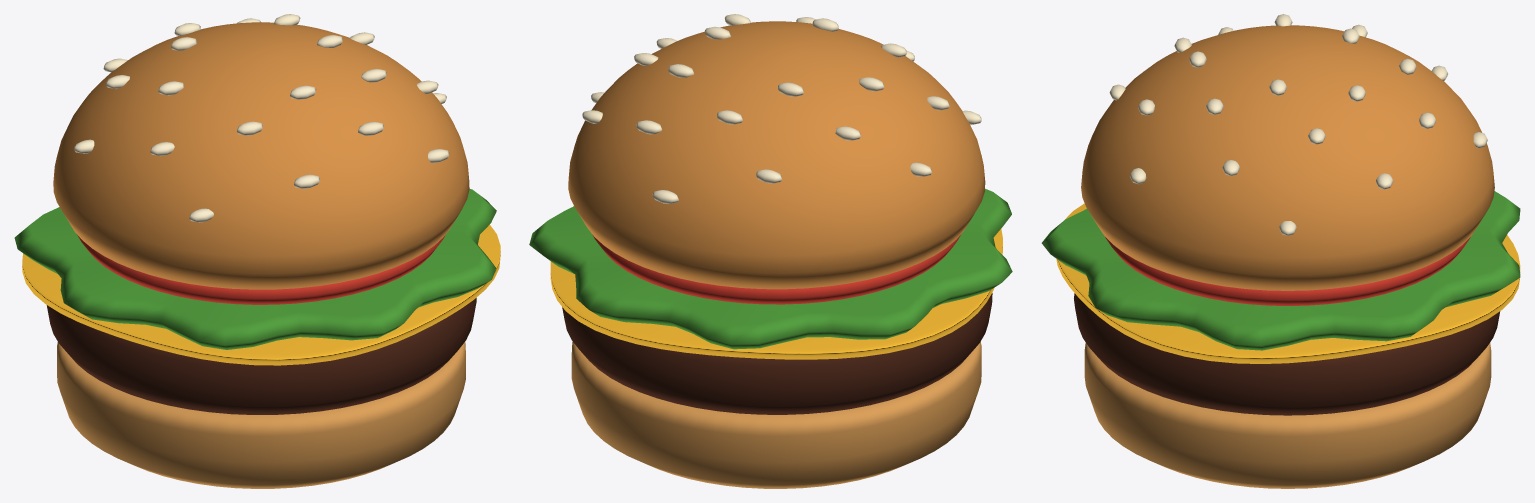
File: hamburguer-teste.glb
The picture shows the model from 3 angles, left to right: view 1: azimuth 30°, elevation 25°; view 2: azimuth 150°, elevation 25°; view 3: azimuth 270°, elevation 25°; orthographic projection.
Parts seen in each view (by area): view 1: hamburguer; view 2: hamburguer; view 3: hamburguer.
Part boxes in pixels (x1,y1,x2,y2): hamburguer: (14,14,500,488); hamburguer: (529,14,1012,488); hamburguer: (1041,14,1520,488).
Size of the model in its own units: 1.19 by 0.9912 by 1.18.
